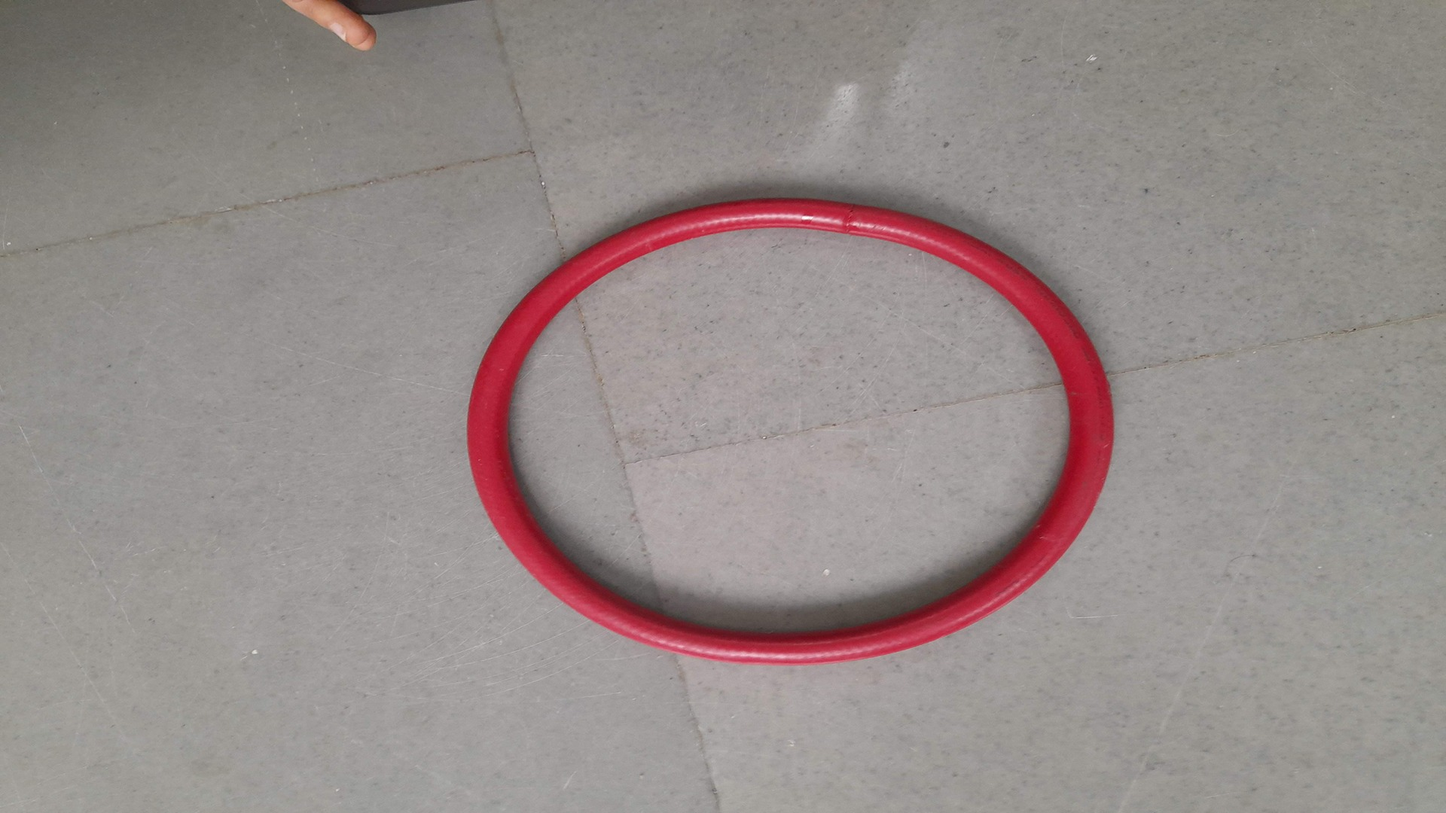Red ring: (471, 196, 1110, 662)
